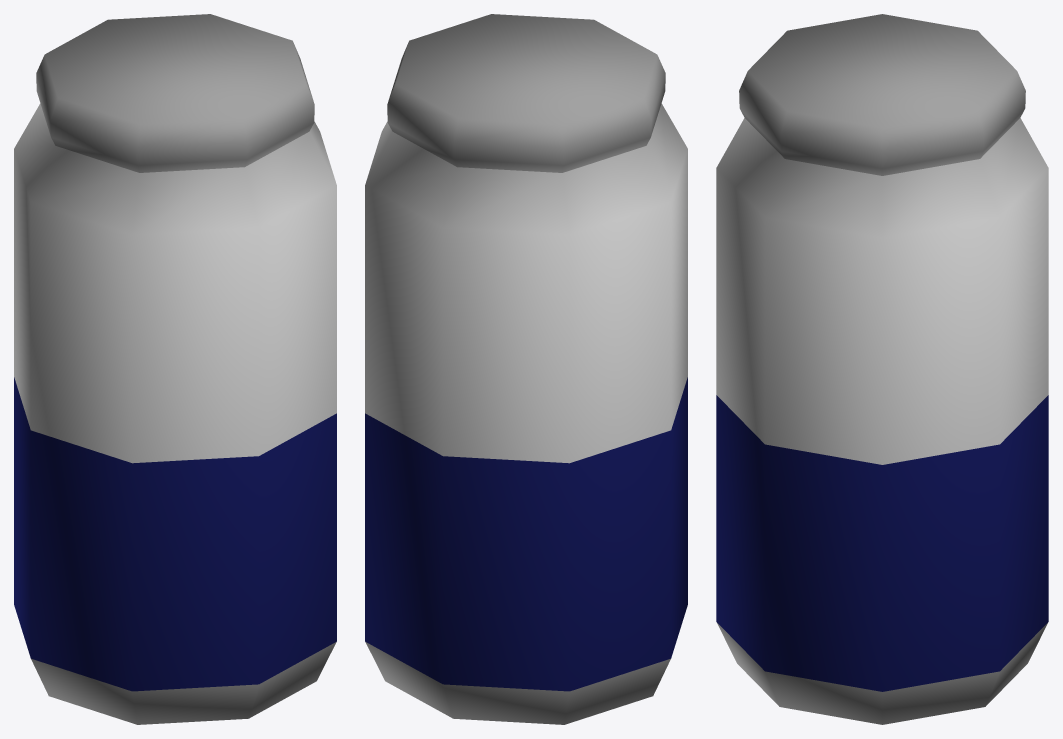
Rendered from Item_Can.glb.
3 renders of one model, left to right at view 1: azimuth 30°, elevation 25°; view 2: azimuth 150°, elevation 25°; view 3: azimuth 270°, elevation 25°, orthographic.
Parts seen in each view (by area): view 1: Item_Can; view 2: Item_Can; view 3: Item_Can.
Part boxes in pixels (box(x1,y1,x2,y2)): Item_Can: box(14, 14, 336, 724); Item_Can: box(365, 14, 687, 724); Item_Can: box(716, 14, 1048, 724).
Bounding box in the file's own units: 0.3392 × 0.6872 × 0.3392.
